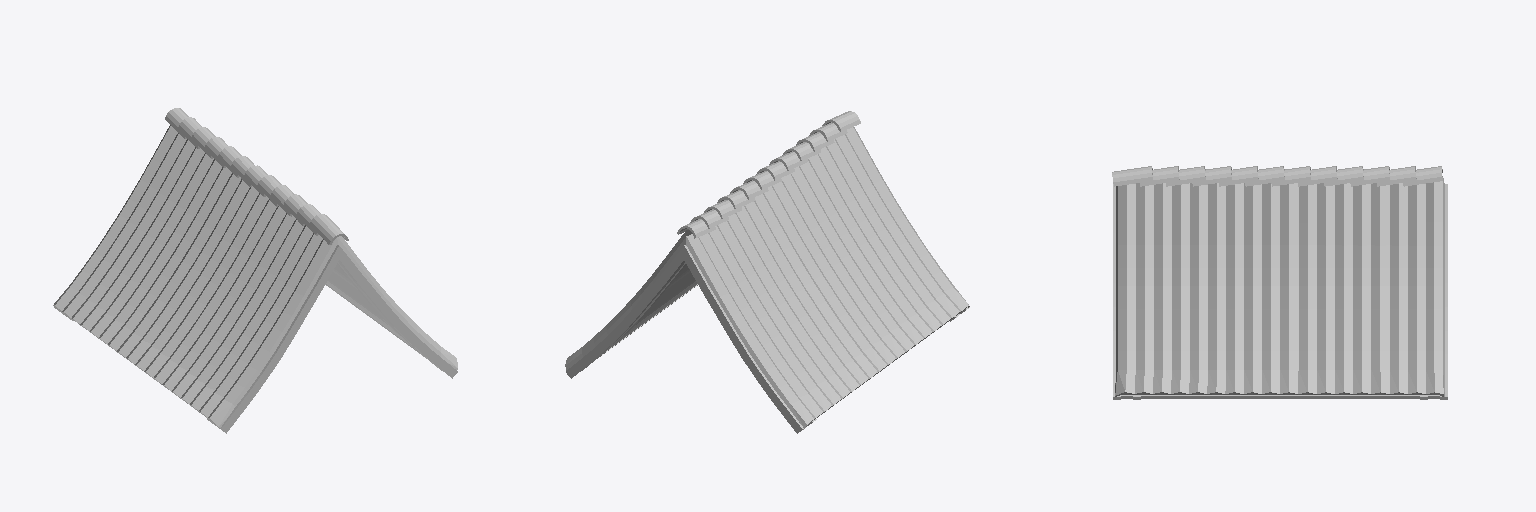
The model's file is Roof_RoundTiles_6x8.obj.
3 renders of one model, left to right at view 1: azimuth 30°, elevation 25°; view 2: azimuth 150°, elevation 25°; view 3: azimuth 270°, elevation 25°, orthographic.
Parts seen in each view (by area): view 1: Roof_RoundTiles_6x8; view 2: Roof_RoundTiles_6x8; view 3: Roof_RoundTiles_6x8.
Boxes of the visible parts, <box> form: Roof_RoundTiles_6x8: <box>53,108,457,433</box>; Roof_RoundTiles_6x8: <box>565,111,969,433</box>; Roof_RoundTiles_6x8: <box>1112,166,1447,399</box>.
Size of the model in its own units: 8.25 by 5.67 by 9.68.